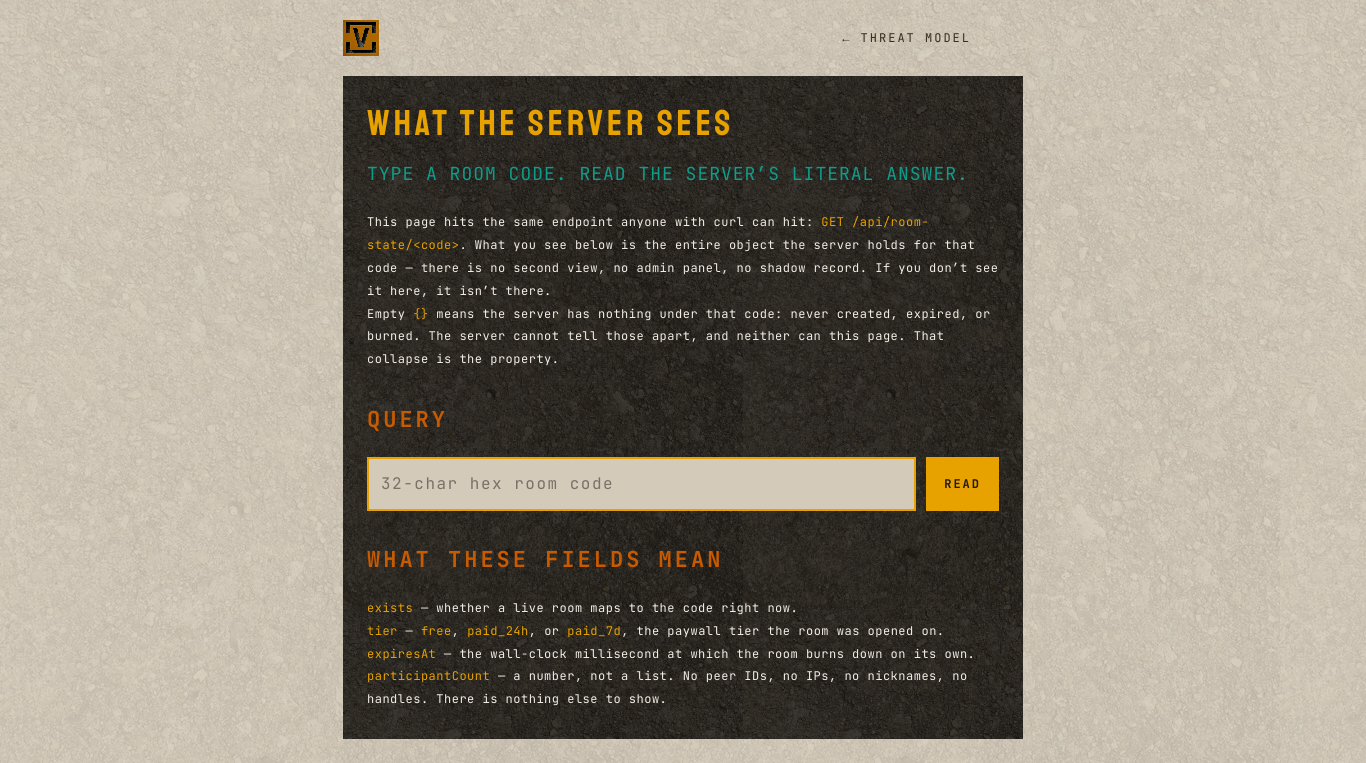
ServerStateProofPage › loud-fails on non-OK HTTP responses instead of pretending the room is empty
The width and height of the screenshot is (1366, 763).
Type "0123456789abcdef0123456789abcdef" into the field with test id "server-state-input". click: (642, 484)
box: [367,457,916,511]
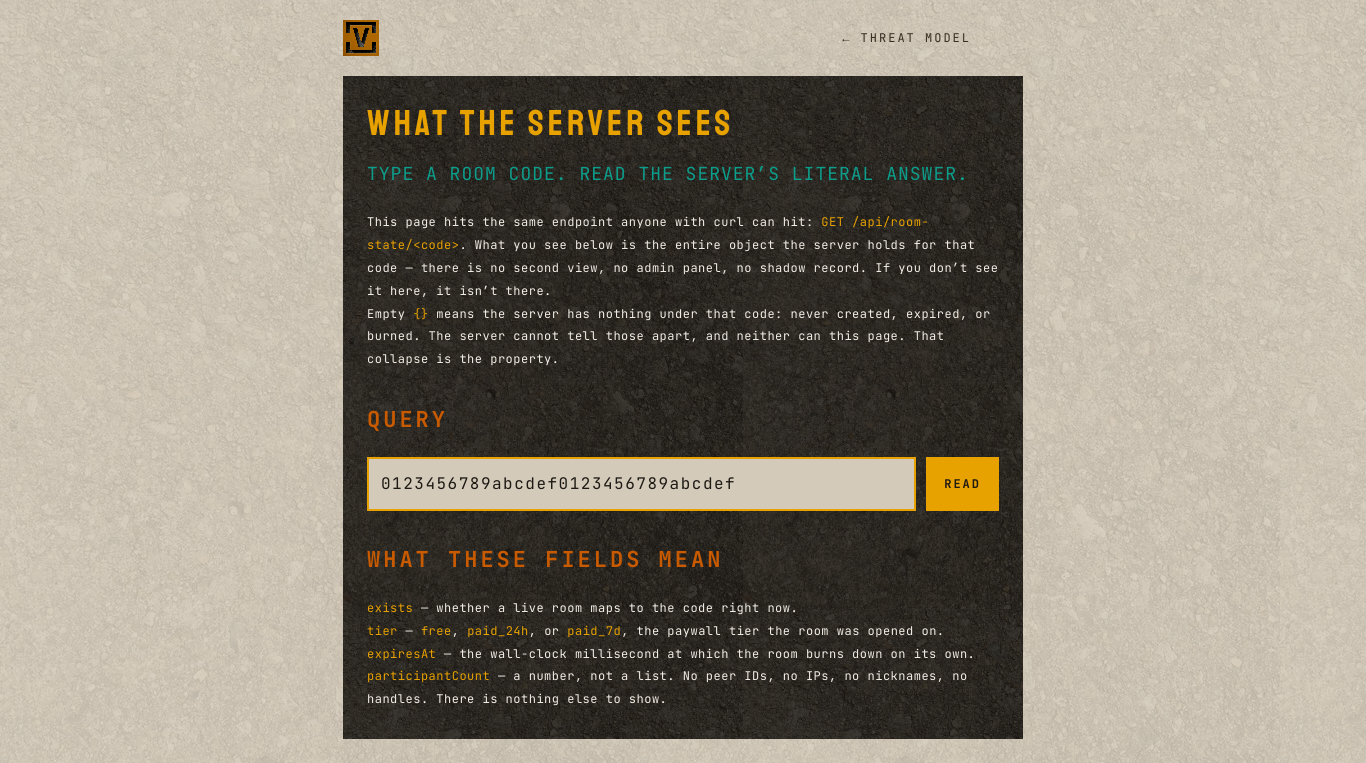
Click the button with test id "server-state-submit". click: (963, 484)
box: [926,457,999,511]
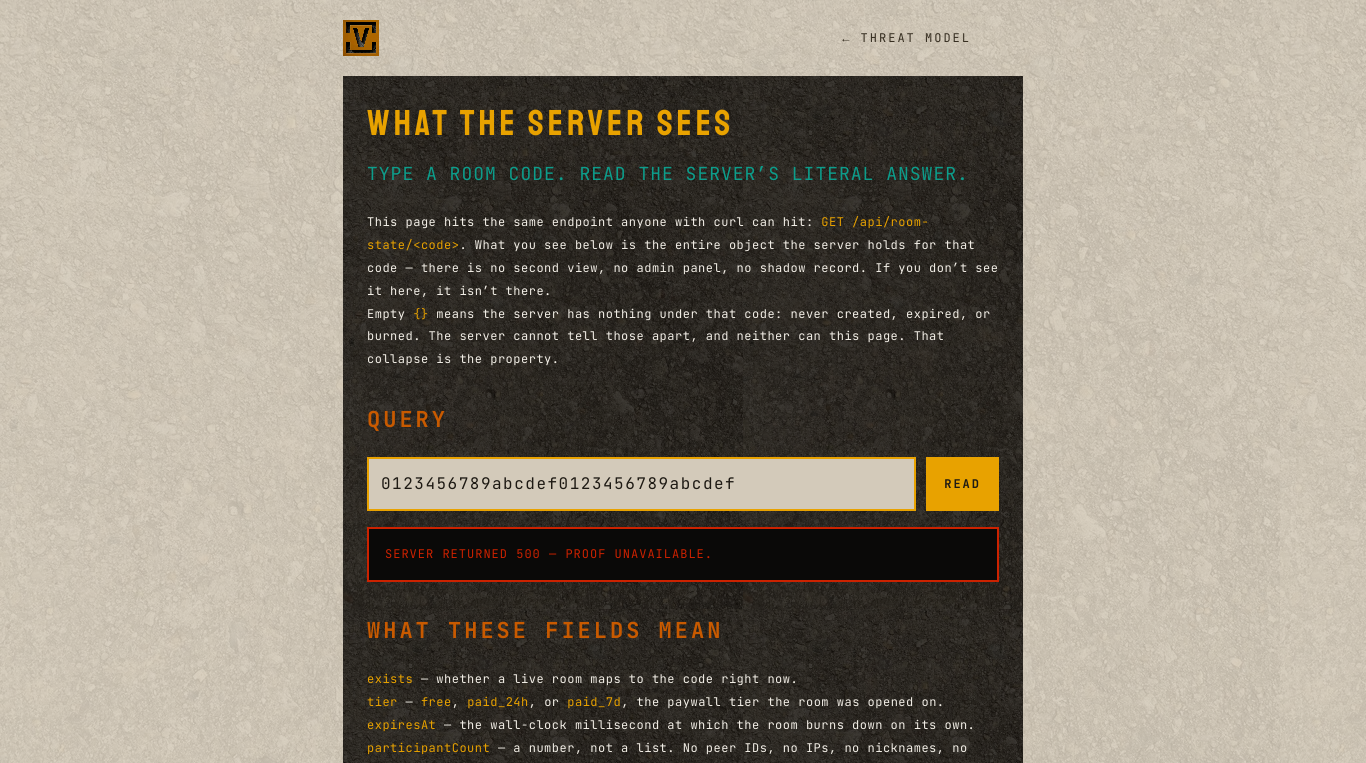
Check: the text "SERVER RETURNED 500 — proof unavailable." is shown, box [367,527,999,582]
Check: the text with test id "server-state-error" shows "500", box [385,546,713,562]
